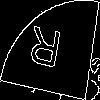R: (25, 25, 64, 78)
